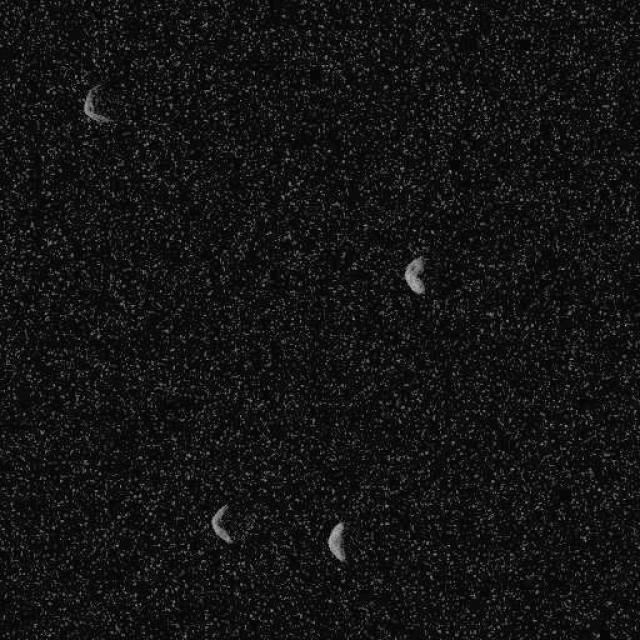D2: (82, 82, 116, 126), (210, 502, 234, 544), (402, 255, 427, 295), (325, 520, 347, 562)
